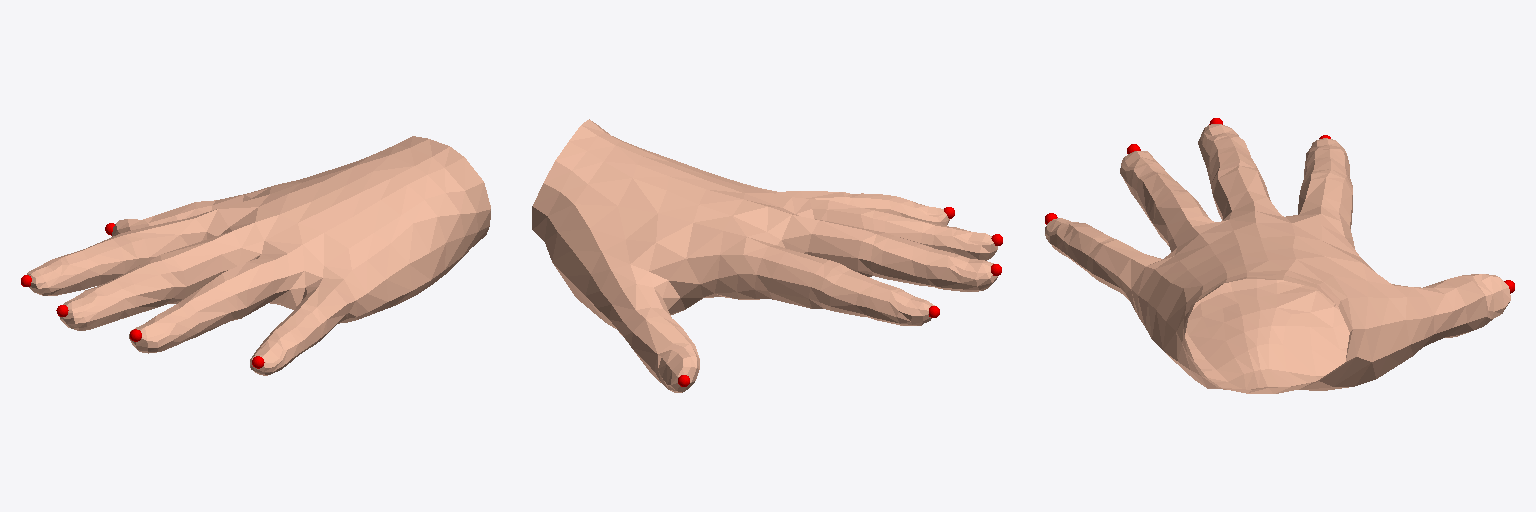
The robot description file, URDF, robot "mano_hand":
<?xml version='1.0' encoding='UTF-8'?>
<robot name="mano_hand">
  <material name="skin_color">
    <color rgba="0.95 0.75 0.65 1.0"/>
  </material>
  <material name="tip_marker_red">
    <color rgba="1.0 0.0 0.0 1.0"/>
  </material>
  <link name="base_link">
    <inertial>
      <origin xyz="0 0 0" rpy="0 0 0"/>
      <mass value="0.001"/>
      <inertia ixx="1e-6" ixy="0" ixz="0" iyy="1e-6" iyz="0" izz="1e-6"/>
    </inertial>
  </link>
  <joint name="ARTx" type="prismatic">
    <parent link="base_link"/>
    <child link="ARTx_link"/>
    <origin xyz="0 0 0" rpy="0 0 0"/>
    <axis xyz="1 0 0"/>
    <limit lower="-2.0" upper="2.0" effort="1000" velocity="100.0"/>
    <dynamics damping="1.0" friction="0.05"/>
  </joint>
  <link name="ARTx_link">
    <inertial>
      <origin xyz="0 0 0" rpy="0 0 0"/>
      <mass value="0.001"/>
      <inertia ixx="1e-6" ixy="0" ixz="0" iyy="1e-6" iyz="0" izz="1e-6"/>
    </inertial>
  </link>
  <joint name="ARTy" type="prismatic">
    <parent link="ARTx_link"/>
    <child link="ARTy_link"/>
    <origin xyz="0 0 0" rpy="0 0 0"/>
    <axis xyz="0 1 0"/>
    <limit lower="-2.0" upper="2.0" effort="1000" velocity="100.0"/>
    <dynamics damping="1.0" friction="0.05"/>
  </joint>
  <link name="ARTy_link">
    <inertial>
      <origin xyz="0 0 0" rpy="0 0 0"/>
      <mass value="0.001"/>
      <inertia ixx="1e-6" ixy="0" ixz="0" iyy="1e-6" iyz="0" izz="1e-6"/>
    </inertial>
  </link>
  <joint name="ARTz" type="prismatic">
    <parent link="ARTy_link"/>
    <child link="ARTz_link"/>
    <origin xyz="0 0 0" rpy="0 0 0"/>
    <axis xyz="0 0 1"/>
    <limit lower="-2.0" upper="2.0" effort="1000" velocity="100.0"/>
    <dynamics damping="1.0" friction="0.05"/>
  </joint>
  <link name="ARTz_link">
    <inertial>
      <origin xyz="0 0 0" rpy="0 0 0"/>
      <mass value="0.001"/>
      <inertia ixx="1e-6" ixy="0" ixz="0" iyy="1e-6" iyz="0" izz="1e-6"/>
    </inertial>
  </link>
  <joint name="ARRx" type="revolute">
    <parent link="ARTz_link"/>
    <child link="ARRx_link"/>
    <origin xyz="0 0 0" rpy="0 0 0"/>
    <axis xyz="1 0 0"/>
    <limit lower="-9.42478" upper="9.42478" effort="1000" velocity="100.0"/>
    <dynamics damping="1.0" friction="0.05"/>
  </joint>
  <link name="ARRx_link">
    <inertial>
      <origin xyz="0 0 0" rpy="0 0 0"/>
      <mass value="0.001"/>
      <inertia ixx="1e-6" ixy="0" ixz="0" iyy="1e-6" iyz="0" izz="1e-6"/>
    </inertial>
  </link>
  <joint name="ARRy" type="revolute">
    <parent link="ARRx_link"/>
    <child link="ARRy_link"/>
    <origin xyz="0 0 0" rpy="0 0 0"/>
    <axis xyz="0 1 0"/>
    <limit lower="-9.42478" upper="9.42478" effort="1000" velocity="100.0"/>
    <dynamics damping="1.0" friction="0.05"/>
  </joint>
  <link name="ARRy_link">
    <inertial>
      <origin xyz="0 0 0" rpy="0 0 0"/>
      <mass value="0.001"/>
      <inertia ixx="1e-6" ixy="0" ixz="0" iyy="1e-6" iyz="0" izz="1e-6"/>
    </inertial>
  </link>
  <joint name="ARRz" type="revolute">
    <parent link="ARRy_link"/>
    <child link="ARRz_link"/>
    <origin xyz="0 0 0" rpy="0 0 0"/>
    <axis xyz="0 0 1"/>
    <limit lower="-9.42478" upper="9.42478" effort="1000" velocity="100.0"/>
    <dynamics damping="1.0" friction="0.05"/>
  </joint>
  <link name="ARRz_link">
    <inertial>
      <origin xyz="0 0 0" rpy="0 0 0"/>
      <mass value="0.001"/>
      <inertia ixx="1e-6" ixy="0" ixz="0" iyy="1e-6" iyz="0" izz="1e-6"/>
    </inertial>
  </link>
  <joint name="palm_joint" type="fixed">
    <parent link="ARRz_link"/>
    <child link="palm"/>
    <origin xyz="0 0 0" rpy="1.5708 0 3.1416"/>
  </joint>
  <link name="palm">
    <inertial>
      <origin xyz="0 0 0" rpy="0 0 0"/>
      <mass value="0.02"/>
      <inertia ixx="1e-4" ixy="0" ixz="0" iyy="1e-4" iyz="0" izz="1e-4"/>
    </inertial>
    <visual>
      <geometry>
        <mesh filename="meshes/visual_palm.stl"/>
      </geometry>
      <material name="skin_color"/>
    </visual>
    <collision>
      <geometry>
        <mesh filename="meshes/palm.stl" scale="0.7 0.7 0.7"/>
      </geometry>
    </collision>
  </link>
  <joint name="j1_thumb_cmc_abd" type="revolute">
    <parent link="palm"/>
    <child link="thumb_cmc_abd"/>
    <origin xyz="0.024132363 -0.015373364 0.025609408" rpy="0 0 0"/>
    <axis xyz="0.13087538 -0.9569344 -0.25912964"/>
    <limit lower="-1.175" upper="2.621" effort="100.0" velocity="100.0"/>
  </joint>
  <link name="thumb_cmc_abd">
    <inertial>
      <origin xyz="0 0 0" rpy="0 0 0"/>
      <mass value="0.001"/>
      <inertia ixx="1e-6" ixy="0" ixz="0" iyy="1e-6" iyz="0" izz="1e-6"/>
    </inertial>
  </link>
  <joint name="j1_thumb_cmc_flex" type="revolute">
    <parent link="thumb_cmc_abd"/>
    <child link="thumb_cmc"/>
    <origin xyz="0 0 0" rpy="0 0 0"/>
    <axis xyz="0.98455954 0.15610313 -0.07921076"/>
    <limit lower="-2.0" upper="1.97" effort="100.0" velocity="100.0"/>
  </joint>
  <link name="thumb_cmc">
    <inertial>
      <origin xyz="0 0 0" rpy="0 0 0"/>
      <mass value="0.01"/>
      <inertia ixx="1e-5" ixy="0" ixz="0" iyy="1e-5" iyz="0" izz="1e-5"/>
    </inertial>
    <visual>
      <geometry>
        <mesh filename="meshes/visual_thumb1.stl"/>
      </geometry>
      <material name="skin_color"/>
    </visual>
    <collision>
      <geometry>
        <mesh filename="meshes/thumb1.stl"/>
      </geometry>
    </collision>
  </link>
  <joint name="j1_thumb_mcp" type="revolute">
    <parent link="thumb_cmc"/>
    <child link="thumb_mcp"/>
    <origin xyz="0.019603234 0.0008080108 0.023589075" rpy="0 0 0"/>
    <axis xyz="0.3726426490892212 0.8770380591185193 -0.30321889607573677"/>
    <limit lower="0.0" upper="1.745" effort="100.0" velocity="100.0"/>
  </joint>
  <link name="thumb_mcp">
    <inertial>
      <origin xyz="0 0 0" rpy="0 0 0"/>
      <mass value="0.01"/>
      <inertia ixx="1e-5" ixy="0" ixz="0" iyy="1e-5" iyz="0" izz="1e-5"/>
    </inertial>
    <visual>
      <geometry>
        <mesh filename="meshes/visual_thumb2.stl"/>
      </geometry>
      <material name="skin_color"/>
    </visual>
    <collision>
      <geometry>
        <mesh filename="meshes/thumb2.stl"/>
      </geometry>
    </collision>
  </link>
  <joint name="j1_thumb_ip" type="revolute">
    <parent link="thumb_mcp"/>
    <child link="thumb_ip"/>
    <origin xyz="0.022272121 -0.005411215 0.014559466" rpy="0 0 0"/>
    <axis xyz="0.3726426490892212 0.8770380591185193 -0.30321889607573677"/>
    <limit lower="0.0" upper="1.745" effort="100.0" velocity="100.0"/>
  </joint>
  <link name="thumb_ip">
    <inertial>
      <origin xyz="0 0 0" rpy="0 0 0"/>
      <mass value="0.01"/>
      <inertia ixx="1e-5" ixy="0" ixz="0" iyy="1e-5" iyz="0" izz="1e-5"/>
    </inertial>
    <visual>
      <geometry>
        <mesh filename="meshes/visual_thumb3.stl"/>
      </geometry>
      <material name="skin_color"/>
    </visual>
    <visual>
      <origin xyz="0.0259890258 -0.00277095381 0.0238726139" rpy="0 0 0"/>
      <geometry>
        <sphere radius="0.0025"/>
      </geometry>
      <material name="tip_marker_red"/>
    </visual>
    <collision>
      <geometry>
        <mesh filename="meshes/thumb3.stl"/>
      </geometry>
    </collision>
  </link>
  <joint name="j2_index_mcp_abd" type="revolute">
    <parent link="palm"/>
    <child link="index_mcp_abd"/>
    <origin xyz="0.08839674 -0.0051841675 0.020439146" rpy="0 0 0"/>
    <axis xyz="0.057847755372313195 0.9983254164842168 -0.0"/>
    <limit lower="-0.349" upper="0.349" effort="100.0" velocity="100.0"/>
  </joint>
  <link name="index_mcp_abd">
    <inertial>
      <origin xyz="0 0 0" rpy="0 0 0"/>
      <mass value="0.001"/>
      <inertia ixx="1e-6" ixy="0" ixz="0" iyy="1e-6" iyz="0" izz="1e-6"/>
    </inertial>
  </link>
  <joint name="j2_index_mcp_flex" type="revolute">
    <parent link="index_mcp_abd"/>
    <child link="index_mcp"/>
    <origin xyz="0 0 0" rpy="0 0 0"/>
    <axis xyz="-0.003962640408729355 0.00022961436141723525 -0.9999921223480893"/>
    <limit lower="-0.175" upper="1.571" effort="100.0" velocity="100.0"/>
  </joint>
  <link name="index_mcp">
    <inertial>
      <origin xyz="0 0 0" rpy="0 0 0"/>
      <mass value="0.01"/>
      <inertia ixx="1e-5" ixy="0" ixz="0" iyy="1e-5" iyz="0" izz="1e-5"/>
    </inertial>
    <visual>
      <geometry>
        <mesh filename="meshes/visual_index1.stl"/>
      </geometry>
      <material name="skin_color"/>
    </visual>
    <collision>
      <geometry>
        <mesh filename="meshes/index1.stl"/>
      </geometry>
    </collision>
  </link>
  <joint name="j2_index_pip" type="revolute">
    <parent link="index_mcp"/>
    <child link="index_pip"/>
    <origin xyz="0.03271829 0.004049298 0.0022409074" rpy="0 0 0"/>
    <axis xyz="-0.003962640408729355 0.00022961436141723525 -0.9999921223480893"/>
    <limit lower="0.0" upper="1.745" effort="100.0" velocity="100.0"/>
  </joint>
  <link name="index_pip">
    <inertial>
      <origin xyz="0 0 0" rpy="0 0 0"/>
      <mass value="0.01"/>
      <inertia ixx="1e-5" ixy="0" ixz="0" iyy="1e-5" iyz="0" izz="1e-5"/>
    </inertial>
    <visual>
      <geometry>
        <mesh filename="meshes/visual_index2.stl"/>
      </geometry>
      <material name="skin_color"/>
    </visual>
    <collision>
      <geometry>
        <mesh filename="meshes/index2.stl"/>
      </geometry>
    </collision>
  </link>
  <joint name="j2_index_dip" type="revolute">
    <parent link="index_pip"/>
    <child link="index_dip"/>
    <origin xyz="0.022165421 -0.0012843707 -8.812919e-05" rpy="0 0 0"/>
    <axis xyz="-0.003962640408729355 0.00022961436141723525 -0.9999921223480893"/>
    <limit lower="0.0" upper="1.745" effort="100.0" velocity="100.0"/>
  </joint>
  <link name="index_dip">
    <inertial>
      <origin xyz="0 0 0" rpy="0 0 0"/>
      <mass value="0.01"/>
      <inertia ixx="1e-5" ixy="0" ixz="0" iyy="1e-5" iyz="0" izz="1e-5"/>
    </inertial>
    <visual>
      <geometry>
        <mesh filename="meshes/visual_index3.stl"/>
      </geometry>
      <material name="skin_color"/>
    </visual>
    <visual>
      <origin xyz="0.0254712477 0.00122383656 -0.000534113497" rpy="0 0 0"/>
      <geometry>
        <sphere radius="0.0025"/>
      </geometry>
      <material name="tip_marker_red"/>
    </visual>
    <collision>
      <geometry>
        <mesh filename="meshes/index3.stl"/>
      </geometry>
    </collision>
  </link>
  <joint name="j3_middle_mcp_abd" type="revolute">
    <parent link="palm"/>
    <child link="middle_mcp_abd"/>
    <origin xyz="0.09497345 -0.0015495019 -0.0034130216" rpy="0 0 0"/>
    <axis xyz="0.056576222 0.99824756 0.017347869"/>
    <limit lower="-0.524" upper="0.349" effort="100.0" velocity="100.0"/>
  </joint>
  <link name="middle_mcp_abd">
    <inertial>
      <origin xyz="0 0 0" rpy="0 0 0"/>
      <mass value="0.001"/>
      <inertia ixx="1e-6" ixy="0" ixz="0" iyy="1e-6" iyz="0" izz="1e-6"/>
    </inertial>
  </link>
  <joint name="j3_middle_mcp_flex" type="revolute">
    <parent link="middle_mcp_abd"/>
    <child link="middle_mcp"/>
    <origin xyz="0 0 0" rpy="0 0 0"/>
    <axis xyz="-0.16666983 0.026575126 -0.9856546"/>
    <limit lower="-0.175" upper="1.571" effort="100.0" velocity="100.0"/>
  </joint>
  <link name="middle_mcp">
    <inertial>
      <origin xyz="0 0 0" rpy="0 0 0"/>
      <mass value="0.01"/>
      <inertia ixx="1e-5" ixy="0" ixz="0" iyy="1e-5" iyz="0" izz="1e-5"/>
    </inertial>
    <visual>
      <geometry>
        <mesh filename="meshes/visual_middle1.stl"/>
      </geometry>
      <material name="skin_color"/>
    </visual>
    <collision>
      <geometry>
        <mesh filename="meshes/middle1.stl"/>
      </geometry>
    </collision>
  </link>
  <joint name="j3_middle_pip" type="revolute">
    <parent link="middle_mcp"/>
    <child link="middle_pip"/>
    <origin xyz="0.031204747 0.001839424 -0.005542431" rpy="0 0 0"/>
    <axis xyz="-0.16666983 0.026575126 -0.9856546"/>
    <limit lower="0.0" upper="1.745" effort="100.0" velocity="100.0"/>
  </joint>
  <link name="middle_pip">
    <inertial>
      <origin xyz="0 0 0" rpy="0 0 0"/>
      <mass value="0.01"/>
      <inertia ixx="1e-5" ixy="0" ixz="0" iyy="1e-5" iyz="0" izz="1e-5"/>
    </inertial>
    <visual>
      <geometry>
        <mesh filename="meshes/visual_middle2.stl"/>
      </geometry>
      <material name="skin_color"/>
    </visual>
    <collision>
      <geometry>
        <mesh filename="meshes/middle2.stl"/>
      </geometry>
    </collision>
  </link>
  <joint name="j3_middle_dip" type="revolute">
    <parent link="middle_pip"/>
    <child link="middle_dip"/>
    <origin xyz="0.022904975 -0.0012302669 -0.0039063008" rpy="0 0 0"/>
    <axis xyz="-0.16666983 0.026575126 -0.9856546"/>
    <limit lower="0.0" upper="1.745" effort="100.0" velocity="100.0"/>
  </joint>
  <link name="middle_dip">
    <inertial>
      <origin xyz="0 0 0" rpy="0 0 0"/>
      <mass value="0.01"/>
      <inertia ixx="1e-5" ixy="0" ixz="0" iyy="1e-5" iyz="0" izz="1e-5"/>
    </inertial>
    <visual>
      <geometry>
        <mesh filename="meshes/visual_middle3.stl"/>
      </geometry>
      <material name="skin_color"/>
    </visual>
    <visual>
      <origin xyz="0.0256822258 0.00381317176 -0.00413372461" rpy="0 0 0"/>
      <geometry>
        <sphere radius="0.0025"/>
      </geometry>
      <material name="tip_marker_red"/>
    </visual>
    <collision>
      <geometry>
        <mesh filename="meshes/middle3.stl"/>
      </geometry>
    </collision>
  </link>
  <joint name="j4_ring_mcp_abd" type="revolute">
    <parent link="palm"/>
    <child link="ring_mcp_abd"/>
    <origin xyz="0.081977986 -0.0040041795 -0.026527498" rpy="0 0 0"/>
    <axis xyz="0.031212764 0.99192953 -0.12288801"/>
    <limit lower="-0.524" upper="0.349" effort="100.0" velocity="100.0"/>
  </joint>
  <link name="ring_mcp_abd">
    <inertial>
      <origin xyz="0 0 0" rpy="0 0 0"/>
      <mass value="0.001"/>
      <inertia ixx="1e-6" ixy="0" ixz="0" iyy="1e-6" iyz="0" izz="1e-6"/>
    </inertial>
  </link>
  <joint name="j4_ring_mcp_flex" type="revolute">
    <parent link="ring_mcp_abd"/>
    <child link="ring_mcp"/>
    <origin xyz="0 0 0" rpy="0 0 0"/>
    <axis xyz="-0.31286034 -0.107073784 -0.9437445"/>
    <limit lower="-0.175" upper="1.571" effort="100.0" velocity="100.0"/>
  </joint>
  <link name="ring_mcp">
    <inertial>
      <origin xyz="0 0 0" rpy="0 0 0"/>
      <mass value="0.01"/>
      <inertia ixx="1e-5" ixy="0" ixz="0" iyy="1e-5" iyz="0" izz="1e-5"/>
    </inertial>
    <visual>
      <geometry>
        <mesh filename="meshes/visual_ring1.stl"/>
      </geometry>
      <material name="skin_color"/>
    </visual>
    <collision>
      <geometry>
        <mesh filename="meshes/ring1.stl"/>
      </geometry>
    </collision>
  </link>
  <joint name="j4_ring_pip" type="revolute">
    <parent link="ring_mcp"/>
    <child link="ring_pip"/>
    <origin xyz="0.028299473 0.0020392798 -0.005092375" rpy="0 0 0"/>
    <axis xyz="-0.31286034 -0.107073784 -0.9437445"/>
    <limit lower="0.0" upper="1.745" effort="100.0" velocity="100.0"/>
  </joint>
  <link name="ring_pip">
    <inertial>
      <origin xyz="0 0 0" rpy="0 0 0"/>
      <mass value="0.01"/>
      <inertia ixx="1e-5" ixy="0" ixz="0" iyy="1e-5" iyz="0" izz="1e-5"/>
    </inertial>
    <visual>
      <geometry>
        <mesh filename="meshes/visual_ring2.stl"/>
      </geometry>
      <material name="skin_color"/>
    </visual>
    <collision>
      <geometry>
        <mesh filename="meshes/ring2.stl"/>
      </geometry>
    </collision>
  </link>
  <joint name="j4_ring_dip" type="revolute">
    <parent link="ring_pip"/>
    <child link="ring_dip"/>
    <origin xyz="0.023500375 -0.0016810121 -0.007599879" rpy="0 0 0"/>
    <axis xyz="-0.31286034 -0.107073784 -0.9437445"/>
    <limit lower="0.0" upper="1.745" effort="100.0" velocity="100.0"/>
  </joint>
  <link name="ring_dip">
    <inertial>
      <origin xyz="0 0 0" rpy="0 0 0"/>
      <mass value="0.01"/>
      <inertia ixx="1e-5" ixy="0" ixz="0" iyy="1e-5" iyz="0" izz="1e-5"/>
    </inertial>
    <visual>
      <geometry>
        <mesh filename="meshes/visual_ring3.stl"/>
      </geometry>
      <material name="skin_color"/>
    </visual>
    <visual>
      <origin xyz="0.0244158581 0.00382539304 -0.00734923035" rpy="0 0 0"/>
      <geometry>
        <sphere radius="0.0025"/>
      </geometry>
      <material name="tip_marker_red"/>
    </visual>
    <collision>
      <geometry>
        <mesh filename="meshes/ring3.stl"/>
      </geometry>
    </collision>
  </link>
  <joint name="j5_pinky_mcp_abd" type="revolute">
    <parent link="palm"/>
    <child link="pinky_mcp_abd"/>
    <origin xyz="0.06897076 -0.0098479055 -0.04295122" rpy="0 0 0"/>
    <axis xyz="-0.11928783 0.96148264 -0.2476319"/>
    <limit lower="-0.698" upper="0.349" effort="100.0" velocity="100.0"/>
  </joint>
  <link name="pinky_mcp_abd">
    <inertial>
      <origin xyz="0 0 0" rpy="0 0 0"/>
      <mass value="0.001"/>
      <inertia ixx="1e-6" ixy="0" ixz="0" iyy="1e-6" iyz="0" izz="1e-6"/>
    </inertial>
  </link>
  <joint name="j5_pinky_mcp_flex" type="revolute">
    <parent link="pinky_mcp_abd"/>
    <child link="pinky_mcp"/>
    <origin xyz="0 0 0" rpy="0 0 0"/>
    <axis xyz="-0.5325215 -0.27246132 -0.8013649"/>
    <limit lower="-0.175" upper="1.571" effort="100.0" velocity="100.0"/>
  </joint>
  <link name="pinky_mcp">
    <inertial>
      <origin xyz="0 0 0" rpy="0 0 0"/>
      <mass value="0.01"/>
      <inertia ixx="1e-5" ixy="0" ixz="0" iyy="1e-5" iyz="0" izz="1e-5"/>
    </inertial>
    <visual>
      <geometry>
        <mesh filename="meshes/visual_pinky1.stl"/>
      </geometry>
      <material name="skin_color"/>
    </visual>
    <collision>
      <geometry>
        <mesh filename="meshes/pinky1.stl"/>
      </geometry>
    </collision>
  </link>
  <joint name="j5_pinky_pip" type="revolute">
    <parent link="pinky_mcp"/>
    <child link="pinky_pip"/>
    <origin xyz="0.017070763 0.00013893703 -0.01248654" rpy="0 0 0"/>
    <axis xyz="-0.5325215 -0.27246132 -0.8013649"/>
    <limit lower="0.0" upper="1.745" effort="100.0" velocity="100.0"/>
  </joint>
  <link name="pinky_pip">
    <inertial>
      <origin xyz="0 0 0" rpy="0 0 0"/>
      <mass value="0.01"/>
      <inertia ixx="1e-5" ixy="0" ixz="0" iyy="1e-5" iyz="0" izz="1e-5"/>
    </inertial>
    <visual>
      <geometry>
        <mesh filename="meshes/visual_pinky2.stl"/>
      </geometry>
      <material name="skin_color"/>
    </visual>
    <collision>
      <geometry>
        <mesh filename="meshes/pinky2.stl"/>
      </geometry>
    </collision>
  </link>
  <joint name="j5_pinky_dip" type="revolute">
    <parent link="pinky_pip"/>
    <child link="pinky_dip"/>
    <origin xyz="0.015896253 -0.00068815984 -0.010329377" rpy="0 0 0"/>
    <axis xyz="-0.5325215 -0.27246132 -0.8013649"/>
    <limit lower="0.0" upper="1.745" effort="100.0" velocity="100.0"/>
  </joint>
  <link name="pinky_dip">
    <inertial>
      <origin xyz="0 0 0" rpy="0 0 0"/>
      <mass value="0.01"/>
      <inertia ixx="1e-5" ixy="0" ixz="0" iyy="1e-5" iyz="0" izz="1e-5"/>
    </inertial>
    <visual>
      <geometry>
        <mesh filename="meshes/visual_pinky3.stl"/>
      </geometry>
      <material name="skin_color"/>
    </visual>
    <visual>
      <origin xyz="0.0170783624 0.00155645539 -0.0103213675" rpy="0 0 0"/>
      <geometry>
        <sphere radius="0.0025"/>
      </geometry>
      <material name="tip_marker_red"/>
    </visual>
    <collision>
      <geometry>
        <mesh filename="meshes/pinky3.stl"/>
      </geometry>
    </collision>
  </link>
</robot>

--- Render facts (derived) ---
The picture shows the robot from 3 angles, left to right: view 1: azimuth 30°, elevation 25°; view 2: azimuth 150°, elevation 25°; view 3: azimuth 270°, elevation 25°; orthographic projection.
Robot: mano_hand — 28 links, 27 joints (23 revolute, 3 prismatic, 1 fixed); root link base_link; default pose: all joints at 0.
Visible links, largest first — view 1: palm, middle_mcp, ring_mcp, ring_pip, middle_dip, index_mcp, index_dip, middle_pip, ring_dip, index_pip, pinky_mcp, pinky_dip (+3 smaller); view 2: palm, index_mcp, thumb_mcp, middle_mcp, thumb_ip, thumb_cmc, middle_dip, index_dip, index_pip, middle_pip, ring_dip, ring_mcp (+3 smaller); view 3: palm, thumb_cmc, thumb_mcp, thumb_ip, middle_mcp, pinky_mcp, ring_mcp, index_mcp, ring_pip, pinky_pip, middle_dip, ring_dip (+4 smaller).
Link boxes in pixels (x1,y1,x2,y2): palm: (196, 136, 490, 323); middle_mcp: (142, 231, 240, 303); ring_mcp: (214, 254, 303, 318); ring_pip: (169, 280, 246, 339); middle_dip: (56, 280, 124, 330); index_mcp: (120, 214, 206, 266); index_dip: (21, 251, 91, 295); middle_pip: (107, 264, 173, 318); ring_dip: (129, 308, 190, 353); index_pip: (77, 234, 136, 286); pinky_mcp: (296, 279, 355, 344); pinky_dip: (250, 331, 298, 375); palm: (532, 119, 800, 313); index_mcp: (738, 246, 840, 308); thumb_mcp: (597, 265, 679, 347); middle_mcp: (782, 215, 887, 276); thumb_ip: (632, 316, 699, 392); thumb_cmc: (552, 229, 683, 322); middle_dip: (925, 249, 1001, 291); index_dip: (867, 283, 939, 325); index_pip: (820, 264, 881, 318); middle_pip: (871, 233, 936, 286); ring_dip: (933, 225, 1002, 260); ring_mcp: (792, 197, 873, 228); palm: (1126, 202, 1393, 393); thumb_cmc: (1289, 281, 1422, 385); thumb_mcp: (1392, 284, 1466, 354); thumb_ip: (1432, 274, 1514, 337); middle_mcp: (1211, 160, 1280, 220); pinky_mcp: (1087, 240, 1160, 300); ring_mcp: (1153, 190, 1214, 251); index_mcp: (1298, 173, 1352, 228); ring_pip: (1132, 171, 1184, 225); pinky_pip: (1062, 224, 1116, 273); middle_dip: (1198, 118, 1248, 164); ring_dip: (1120, 144, 1165, 194).
Bounding box of the posed robot: 0.1956 × 0.1687 × 0.0609 m (x, y, z).
Meshes: 16 distinct files referenced, 16 mesh visuals loaded (16 binary STL).
